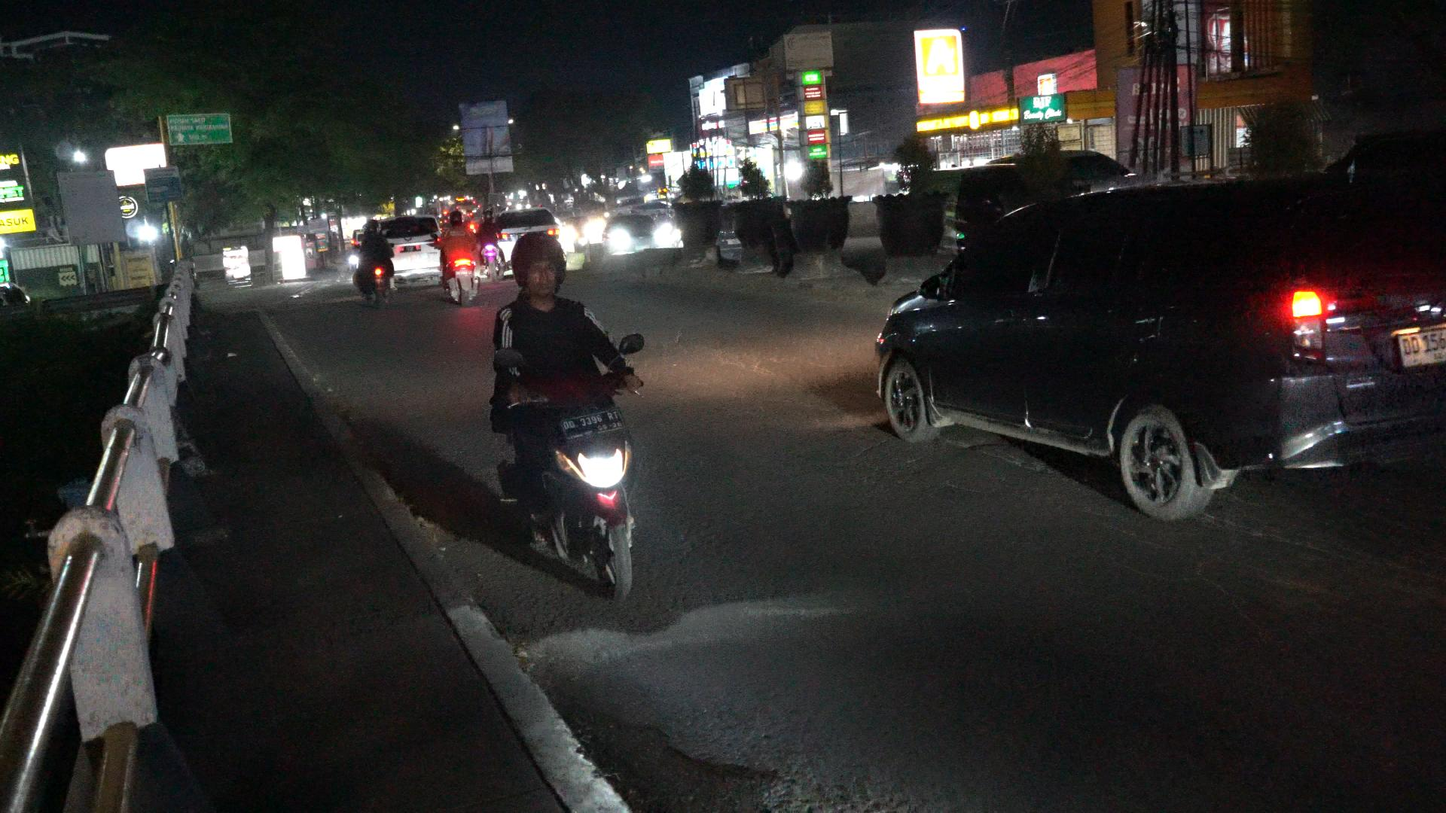number-plate: (560, 404, 627, 437)
